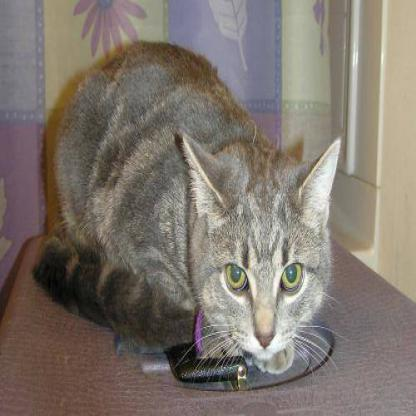cat: (53, 23, 346, 384)
